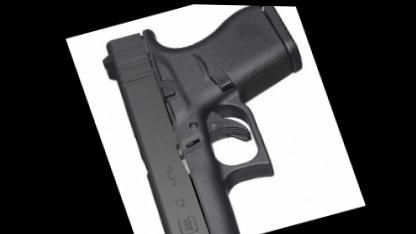pistol: (83, 1, 355, 231)
